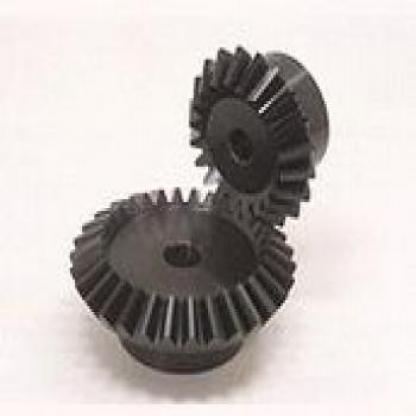FOD: (66, 184, 298, 378), (181, 42, 332, 230)
